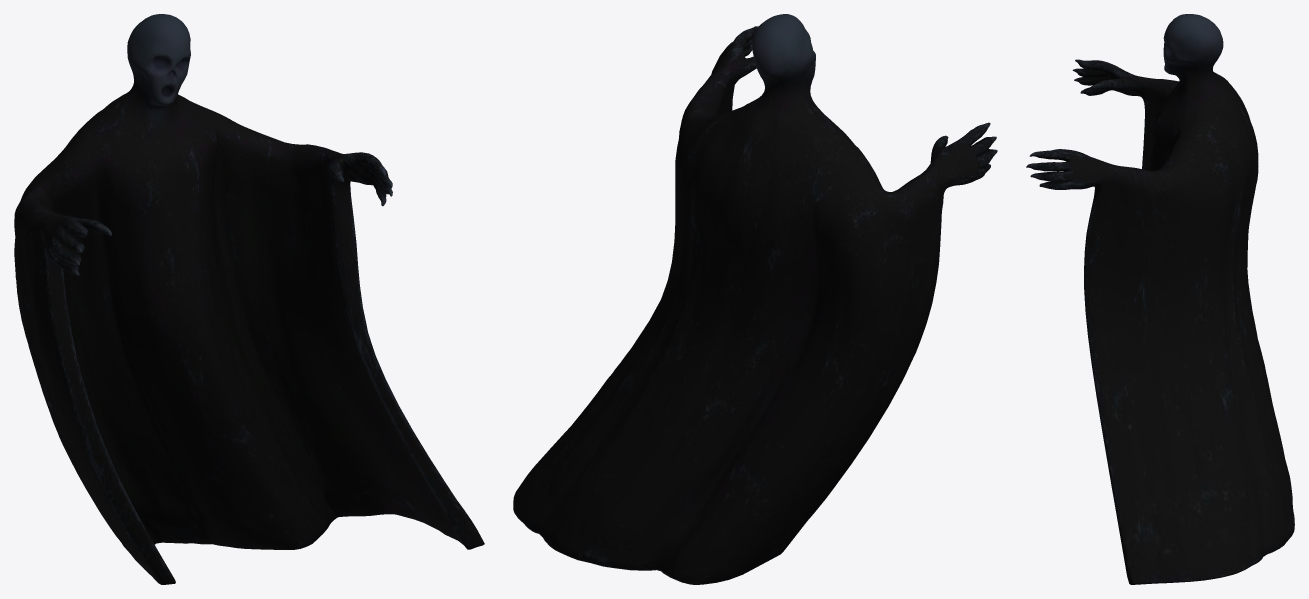
Rendered from MZ4250 - Shadow.glb.
3 views of the same model, side by side, from view 1: azimuth 30°, elevation 25°; view 2: azimuth 150°, elevation 25°; view 3: azimuth 270°, elevation 25° (orthographic). The views are drawn at different scales.
Visible parts, largest first — view 1: Shadow; view 2: Shadow; view 3: Shadow.
Boxes of the visible parts, box(x1,y1,x2,y2) form: Shadow: box(14, 14, 484, 584); Shadow: box(513, 14, 997, 584); Shadow: box(1026, 14, 1294, 584).
Bounding box in the file's own units: 0.9254 × 1.12 × 0.5974.
1 material, 1 textured.
